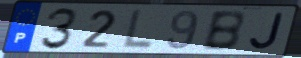2: (79, 9, 118, 50)
3: (40, 6, 79, 51)
9: (164, 9, 200, 51)
B: (200, 10, 246, 53)
J: (247, 12, 287, 51)
L: (119, 8, 156, 51)
